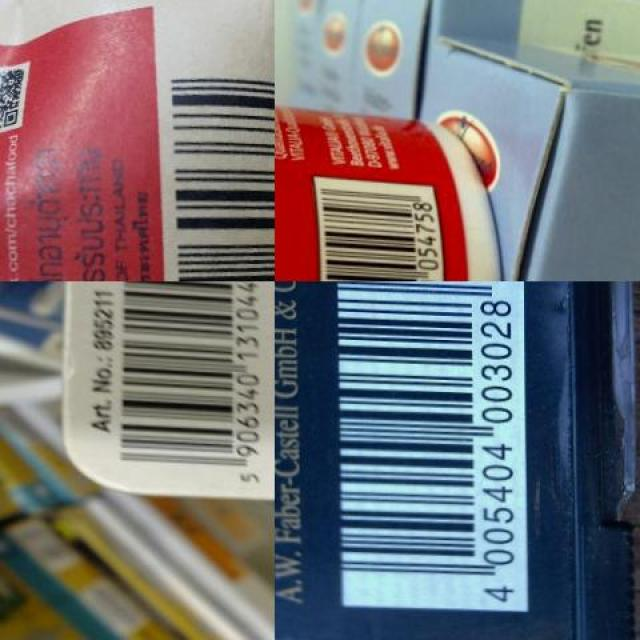Barcode: (333, 282, 527, 606), (81, 281, 268, 488), (164, 47, 275, 281), (312, 175, 441, 281)
